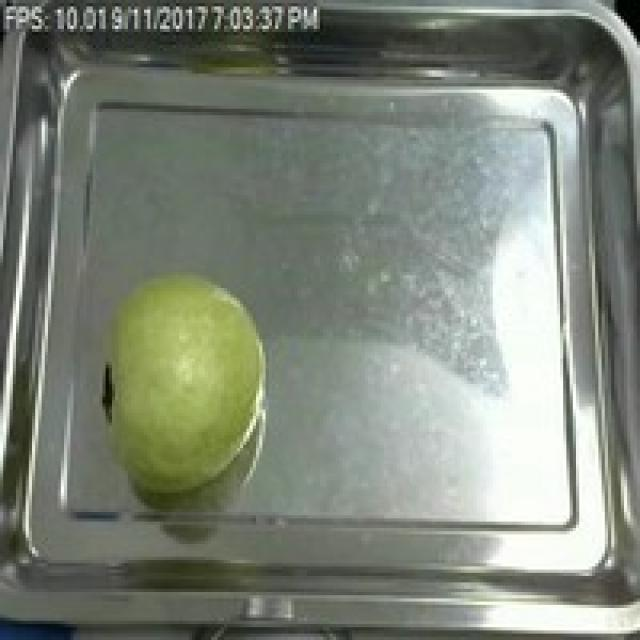Fruit: (90, 262, 282, 502)
